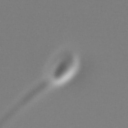normal: (1, 77, 49, 128)
